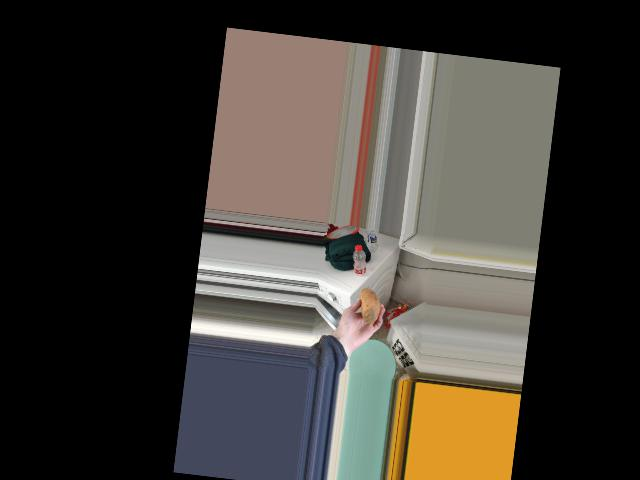sweet_potato: (358, 286, 381, 328)
